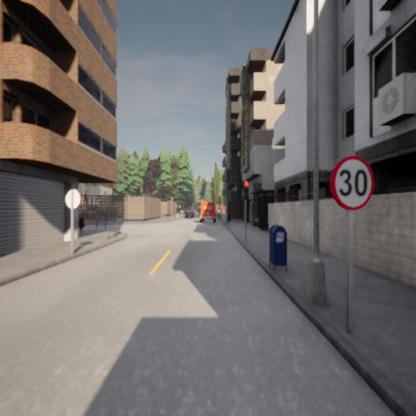traffic_light_red: (242, 182, 250, 201)
traffic_sign_30: (332, 154, 374, 211)
vehicle: (199, 199, 216, 223)
